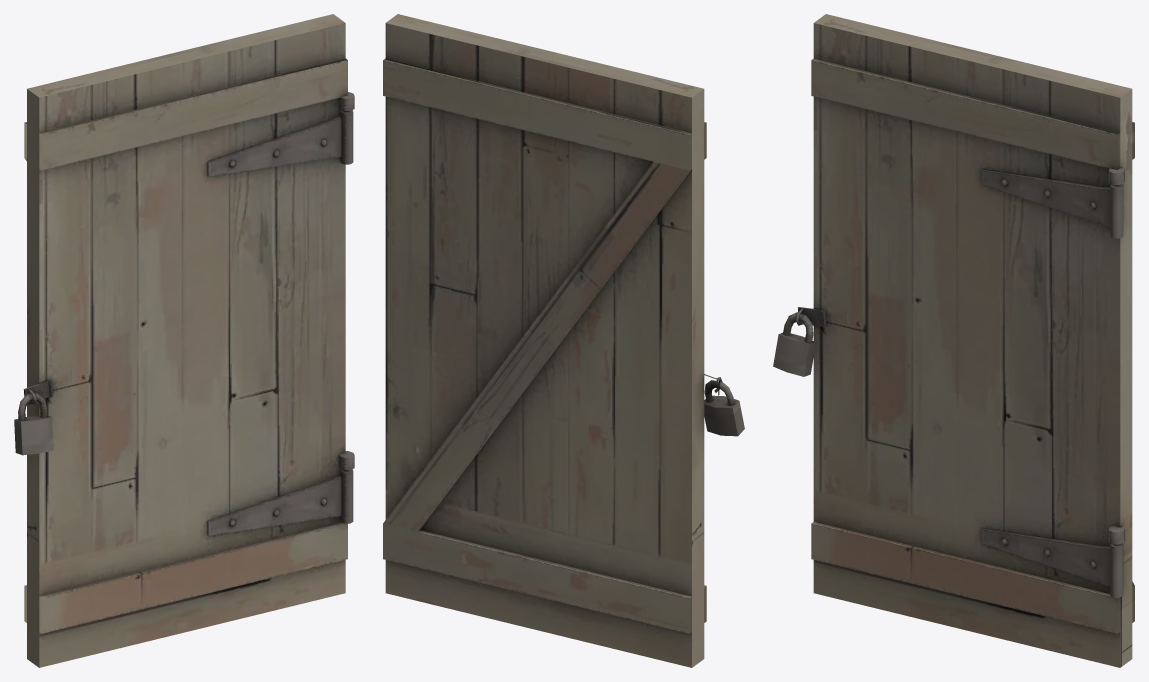
3 views of the same model, side by side, from view 1: azimuth 30°, elevation 25°; view 2: azimuth 150°, elevation 25°; view 3: azimuth 330°, elevation 25° (orthographic).
Visible parts, largest first — view 1: body0_model0_lod0_mesh0; view 2: body0_model0_lod0_mesh0; view 3: body0_model0_lod0_mesh0.
Boxes of the visible parts, left/top/right/bottom form: body0_model0_lod0_mesh0: left=14, top=14, right=354, bottom=667; body0_model0_lod0_mesh0: left=383, top=14, right=744, bottom=667; body0_model0_lod0_mesh0: left=773, top=14, right=1134, bottom=667.
Size of the model in its own units: 80.12 by 128 by 11.59.
1 material, 1 textured.
